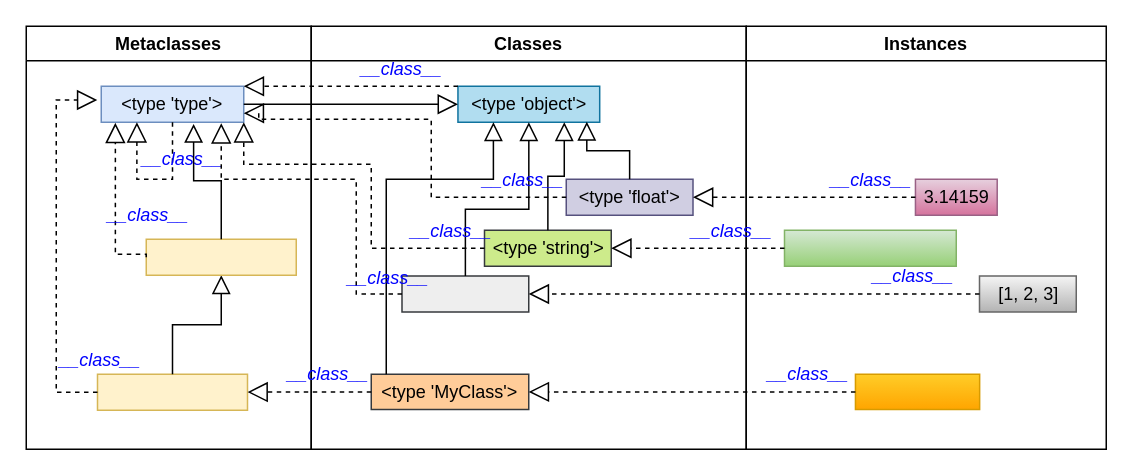
This 1133x476 diagram has some shape labels left out. Here are the shapes that lost their labels. From the top down, the centre of each, then its label:
point (220, 256): <type 'ABCMeta'>
point (869, 247): "some text string"
point (464, 293): <type 'list'>
point (172, 391): <type 'MyMeta'>
point (917, 391): <instance 'o'>
